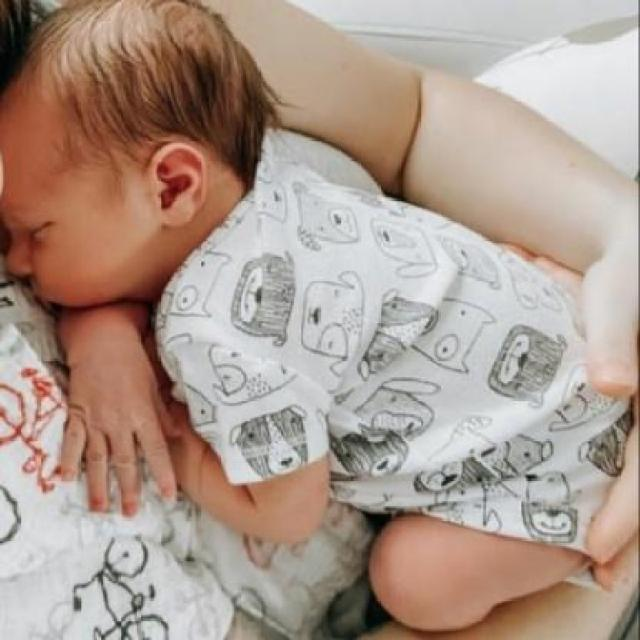baby: (1, 1, 638, 538)
